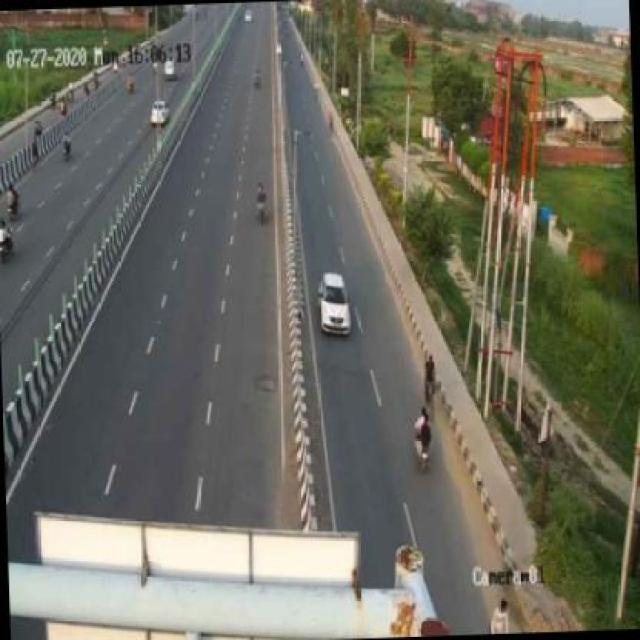car: (317, 266, 355, 336), (149, 95, 171, 126)
